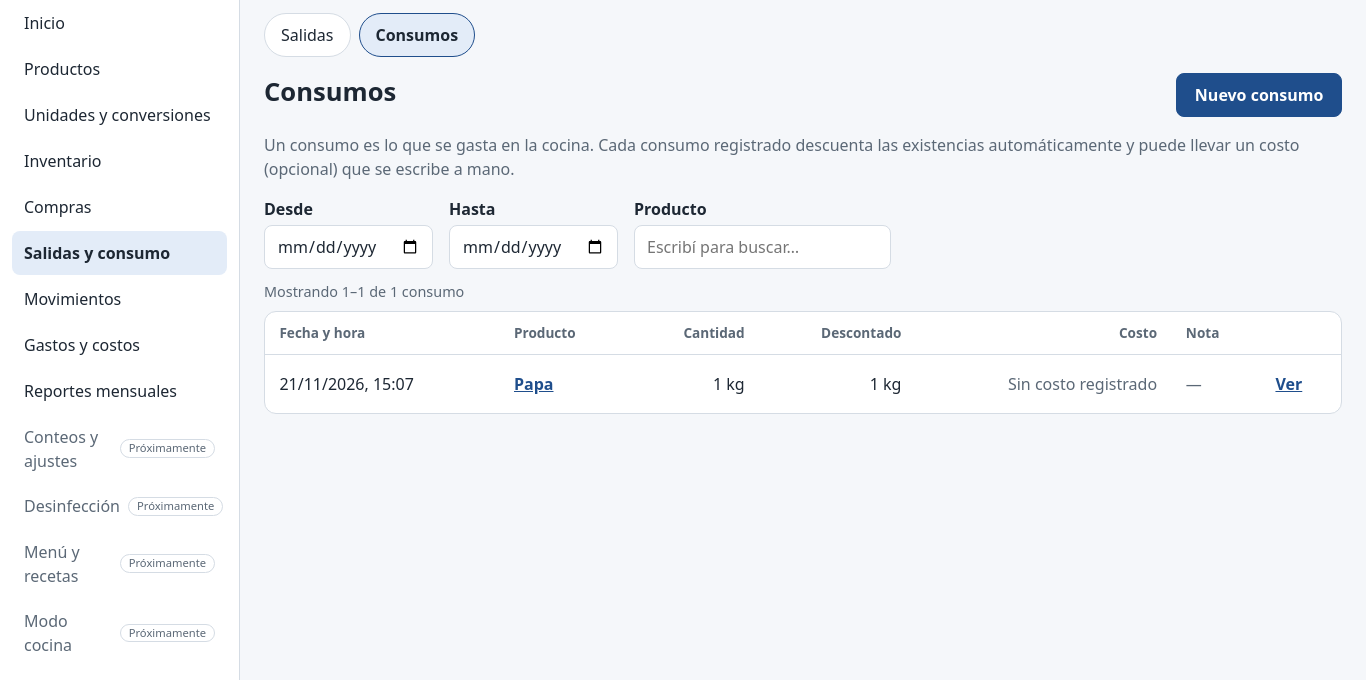
Scenario: detalle del consumo y edición de su costo › desde el listado de consumos se llega al detalle
(page scrolled)
Click the link with aria-label "Ver el consumo de Papa".
click(1289, 384)  # box x1=1276 y1=367 x2=1302 y2=402
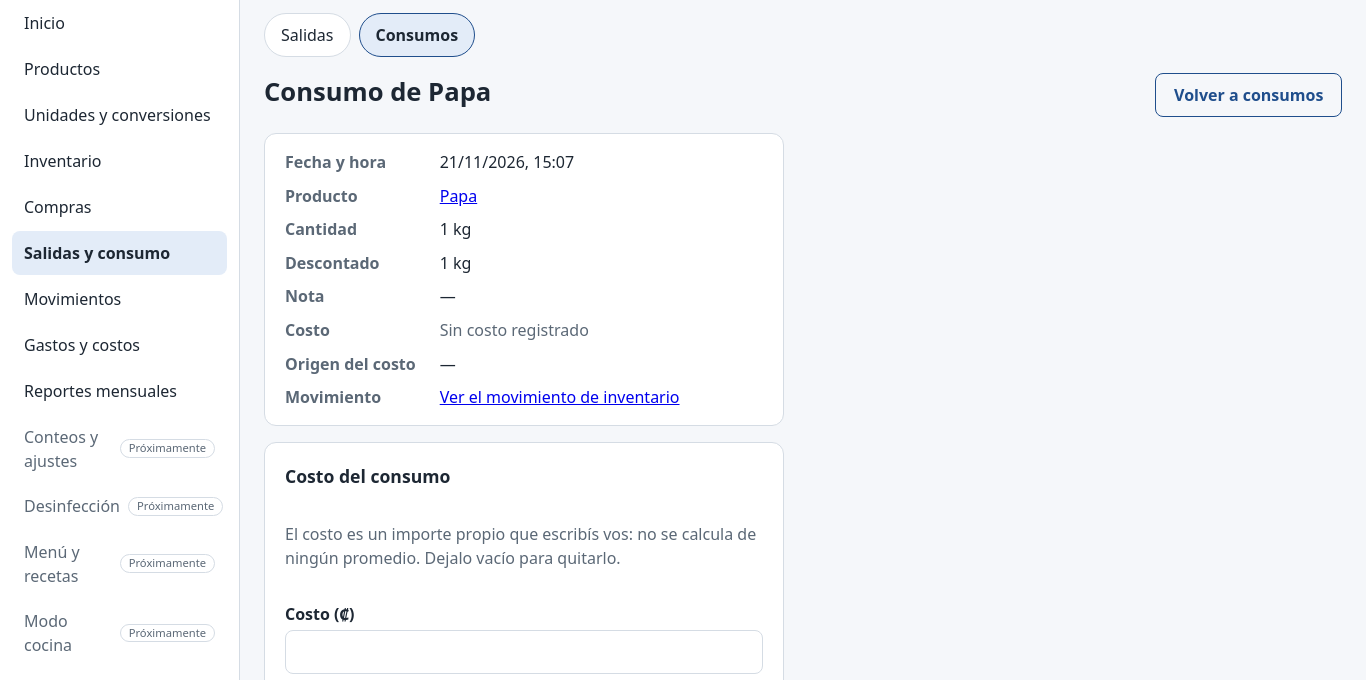
Check: the heading "Consumo de Papa" is shown, box x1=264 y1=73 x2=491 y2=111
